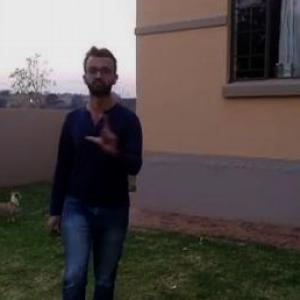land_hand: (84, 106, 129, 154)
